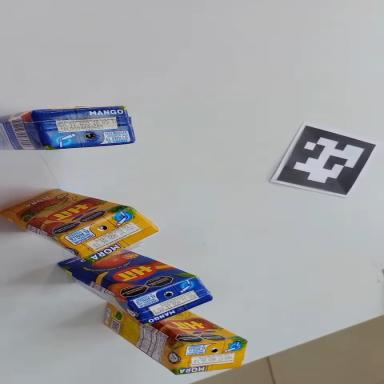HIT-MANGO: (50, 226, 218, 344), (0, 104, 135, 152)
HIT-MORA: (92, 277, 252, 384), (0, 175, 162, 276)
cara_F: (54, 228, 197, 321), (0, 176, 130, 252), (151, 298, 247, 369)
